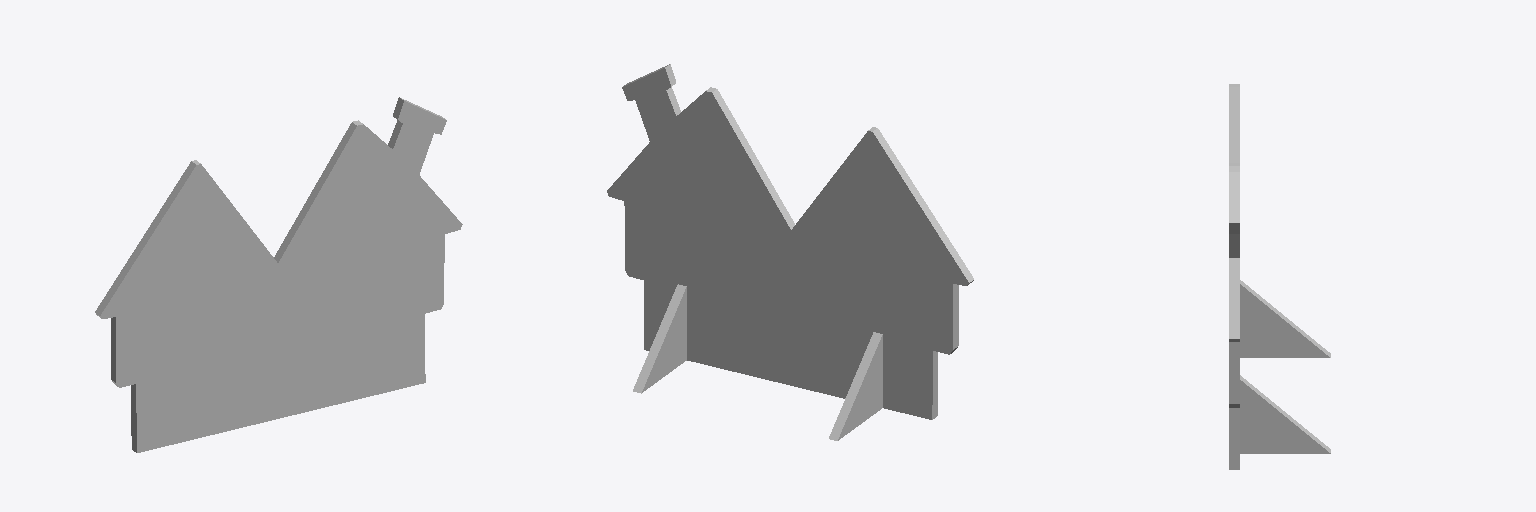
File: medbuilding1.obj
3 renders of one model, left to right at view 1: azimuth 30°, elevation 25°; view 2: azimuth 150°, elevation 25°; view 3: azimuth 270°, elevation 25°, orthographic.
Visible parts, largest first — view 1: submesh_0; view 2: submesh_0; view 3: submesh_0.
Part boxes in pixels (x1,y1,x2,y2): submesh_0: (95, 97, 462, 452); submesh_0: (607, 64, 973, 440); submesh_0: (1229, 84, 1330, 469).
Size of the model in its own units: 16.73 by 12.67 by 4.05.